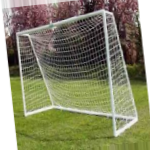goals: (15, 9, 139, 139)
